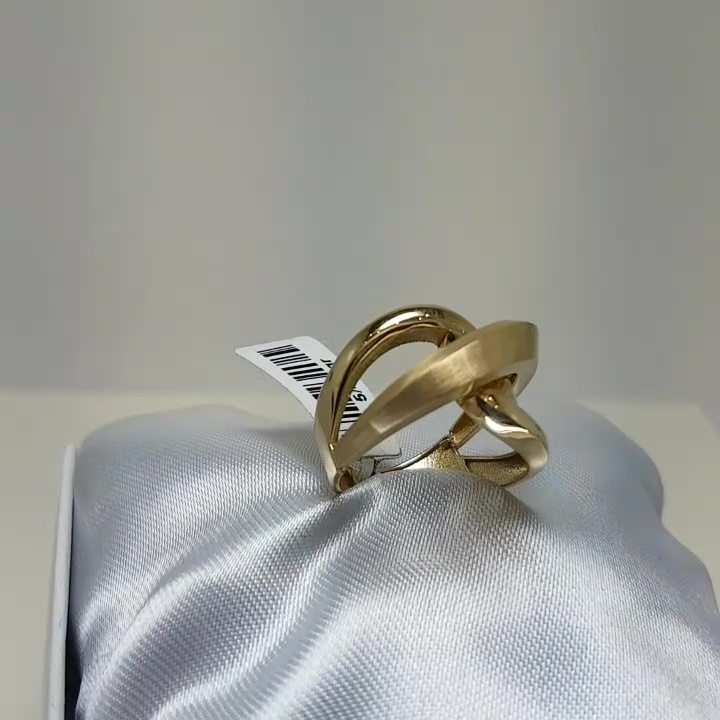Ring 3: (295, 290, 572, 527)
